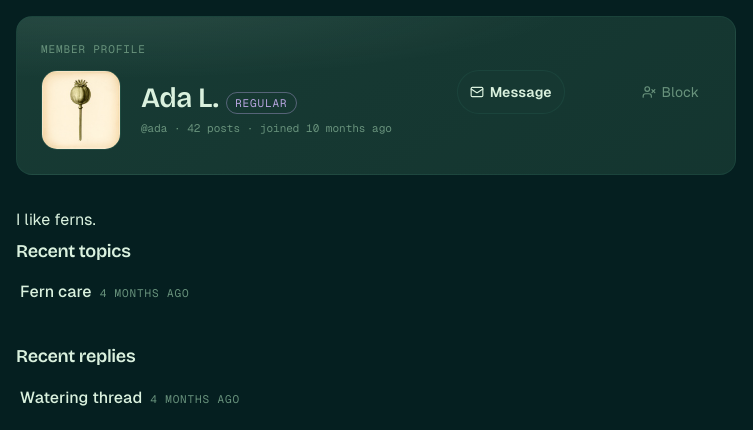
UserProfilePage › blocks a user optimistically, then refetches to match the real backend contract
The image size is (753, 430).
Step 1. Click the button "Block" → (670, 92), box [630,70,711,114]
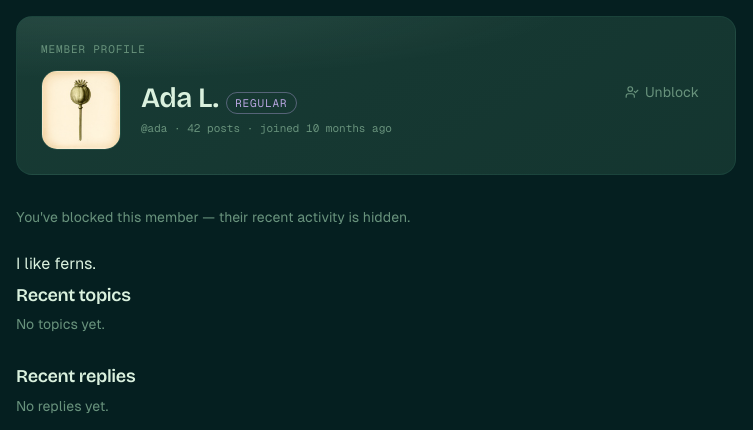
Expected: the button "Unblock" is shown, [613,70,711,114]
Expected: the text "You've blocked this member — their recent activity is hidden." is shown, [16,208,410,224]
Expected: the link "Fern care" is gone
